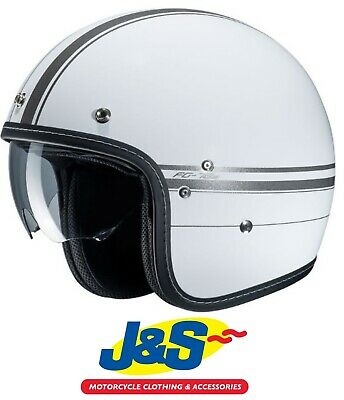with_helmet: (4, 5, 339, 302)
